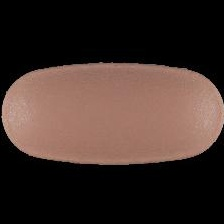68788-9929: (0, 0, 224, 224)
